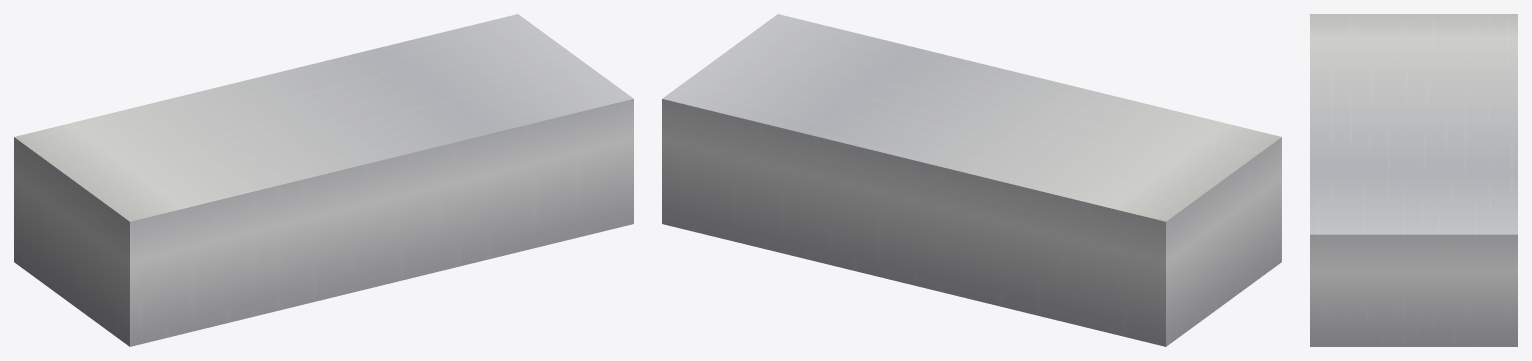
File: Campana.fbx
The picture shows the model from 3 angles, left to right: view 1: azimuth 30°, elevation 25°; view 2: azimuth 150°, elevation 25°; view 3: azimuth 270°, elevation 25°; orthographic projection. The views are drawn at different scales.
Visible parts, largest first — view 1: Campana; view 2: Campana; view 3: Campana.
Part boxes in pixels (x1,y1,x2,y2): Campana: [14, 14, 633, 346]; Campana: [662, 14, 1281, 346]; Campana: [1310, 14, 1517, 346].
Bounding box in the file's own units: 239 × 56.64 × 95.04.
Materials: 1 (1 with a texture image).
